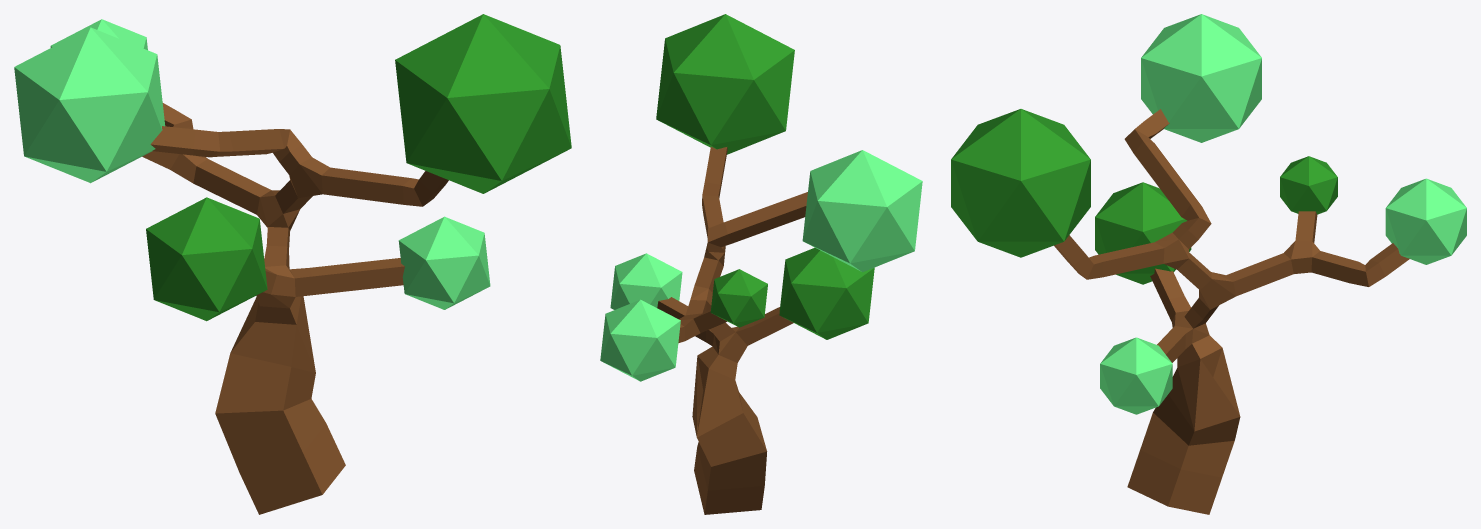
The model's file is tree.glb.
The picture shows the model from 3 angles, left to right: view 1: azimuth 30°, elevation 25°; view 2: azimuth 150°, elevation 25°; view 3: azimuth 270°, elevation 25°; orthographic projection. The views are drawn at different scales.
Parts seen in each view (by area): view 1: wood, leaf.003, leaf, leaf.005, leaf.004, leaf.002; view 2: wood, leaf.003, leaf, leaf.005, leaf.002, leaf.004, leaf.001; view 3: wood, leaf.003, leaf, leaf.002, leaf.005, leaf.004, leaf.001.
Boxes of the visible parts, x1=… form: wood: x1=142, y1=103, x2=448, y2=514; leaf.003: x1=395, y1=14, x2=571, y2=193; leaf: x1=14, y1=27, x2=165, y2=183; leaf.005: x1=146, y1=197, x2=267, y2=321; leaf.004: x1=398, y1=216, x2=490, y2=309; leaf.002: x1=50, y1=19, x2=147, y2=50; wood: x1=657, y1=146, x2=807, y2=514; leaf.003: x1=656, y1=14, x2=794, y2=154; leaf: x1=802, y1=150, x2=922, y2=272; leaf.005: x1=779, y1=247, x2=874, y2=339; leaf.002: x1=600, y1=299, x2=680, y2=381; leaf.004: x1=610, y1=253, x2=682, y2=309; leaf.001: x1=710, y1=269, x2=767, y2=327; wood: x1=1054, y1=109, x2=1409, y2=514; leaf.003: x1=951, y1=109, x2=1090, y2=257; leaf: x1=1141, y1=14, x2=1261, y2=142; leaf.002: x1=1385, y1=178, x2=1466, y2=264; leaf.005: x1=1095, y1=182, x2=1191, y2=284; leaf.004: x1=1100, y1=337, x2=1172, y2=414; leaf.001: x1=1280, y1=156, x2=1337, y2=214.
Size of the model in its own units: 3.99 by 4.76 by 5.04.
